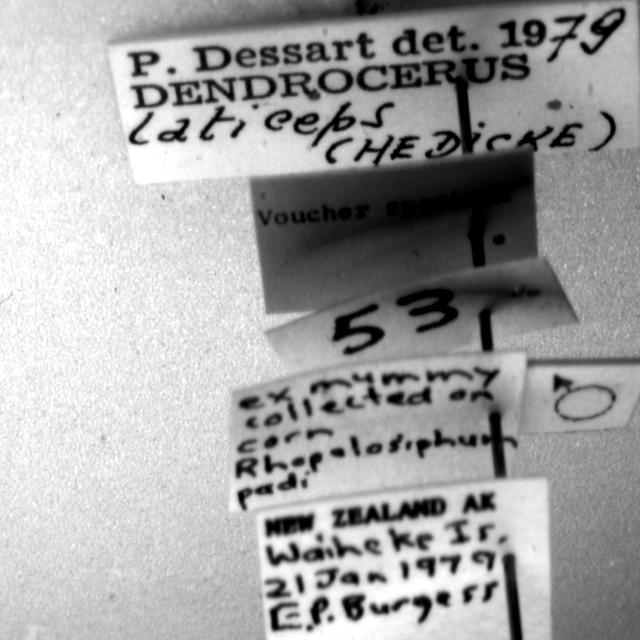hand_label: (229, 352, 526, 512), (266, 259, 578, 373)
mixed_label: (109, 2, 640, 184), (255, 478, 550, 639)
typed_label: (250, 150, 538, 313), (520, 358, 640, 433)
